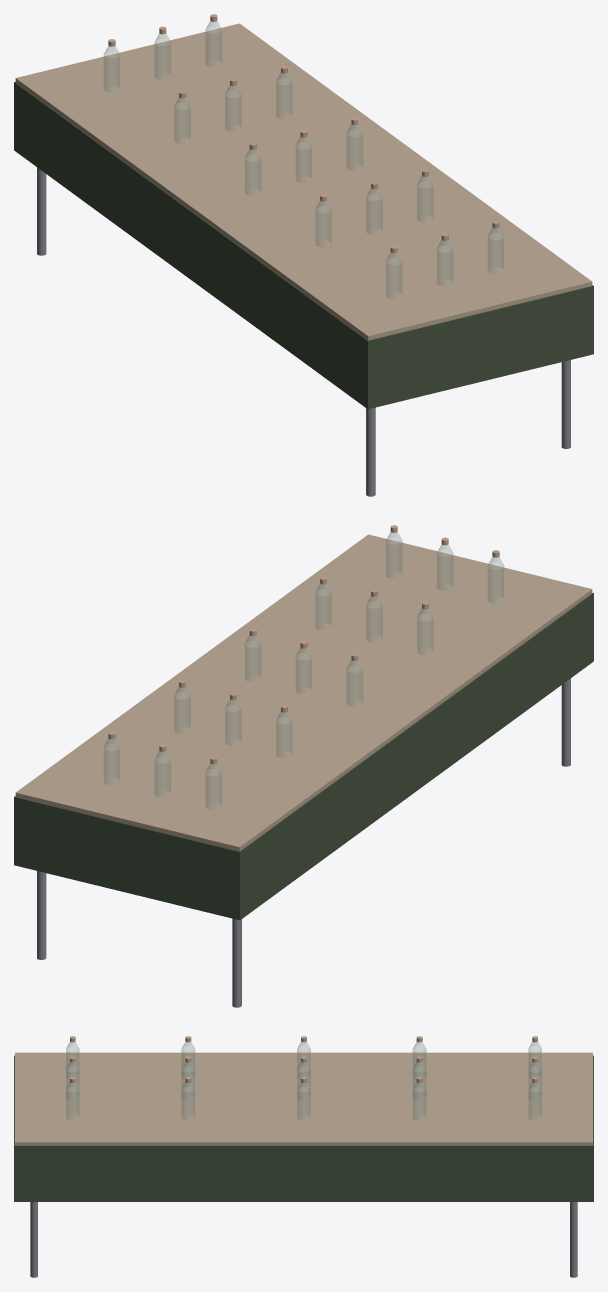
The model's file is meja_air.glb.
3 renders of one model, top to bottom at view 1: azimuth 30°, elevation 25°; view 2: azimuth 150°, elevation 25°; view 3: azimuth 270°, elevation 25°, orthographic. The views are drawn at different scales.
Parts seen in each view (by area): view 1: atas, taplak, kaki0, kaki2, kaki1, botol0_1, botol1_1, botol4_1, botol0_0, botol2_2, botol3_1, botol4_2 (+8 smaller); view 2: atas, taplak, kaki1, kaki3, kaki0, botol0_1, botol2_2, botol3_1, botol4_1, botol0_2, botol1_1, botol2_0 (+8 smaller); view 3: atas, taplak, kaki2, kaki3, botol2_2, botol0_2, botol4_2, botol1_2, botol3_2, botol2_0, botol0_0, botol1_0 (+7 smaller).
Boxes of the visible parts, x1=… form: atas: x1=15, y1=23, x2=592, y2=340; taplak: x1=14, y1=82, x2=593, y2=409; kaki0: x1=366, y1=407, x2=375, y2=496; kaki2: x1=561, y1=360, x2=570, y2=448; kaki1: x1=37, y1=167, x2=46, y2=255; botol0_1: x1=437, y1=240, x2=453, y2=286; botol1_1: x1=366, y1=188, x2=382, y2=234; botol4_1: x1=154, y1=33, x2=170, y2=79; botol0_0: x1=386, y1=252, x2=402, y2=298; botol2_2: x1=346, y1=124, x2=362, y2=170; botol3_1: x1=225, y1=85, x2=241, y2=131; botol4_2: x1=205, y1=21, x2=221, y2=67; atas: x1=15, y1=534, x2=592, y2=851; taplak: x1=14, y1=593, x2=593, y2=920; kaki1: x1=232, y1=918, x2=241, y2=1007; kaki3: x1=37, y1=871, x2=46, y2=959; kaki0: x1=561, y1=678, x2=570, y2=766; botol0_1: x1=437, y1=544, x2=453, y2=590; botol2_2: x1=245, y1=635, x2=261, y2=681; botol3_1: x1=225, y1=699, x2=241, y2=745; botol4_1: x1=154, y1=751, x2=170, y2=797; botol0_2: x1=386, y1=532, x2=402, y2=578; botol1_1: x1=366, y1=596, x2=382, y2=642; botol2_0: x1=346, y1=660, x2=362, y2=706; atas: x1=15, y1=1052, x2=592, y2=1145; taplak: x1=14, y1=1055, x2=593, y2=1201; kaki2: x1=30, y1=1202, x2=37, y2=1277; kaki3: x1=570, y1=1202, x2=577, y2=1277; botol2_2: x1=297, y1=1082, x2=310, y2=1120; botol0_2: x1=66, y1=1082, x2=79, y2=1120; botol4_2: x1=528, y1=1082, x2=541, y2=1120; botol1_2: x1=181, y1=1082, x2=194, y2=1120; botol3_2: x1=413, y1=1082, x2=426, y2=1120; botol2_0: x1=297, y1=1042, x2=310, y2=1076; botol0_0: x1=66, y1=1042, x2=79, y2=1075; botol1_0: x1=181, y1=1042, x2=194, y2=1075.
Size of the model in its own units: 1.11 by 1.03 by 3.01.
